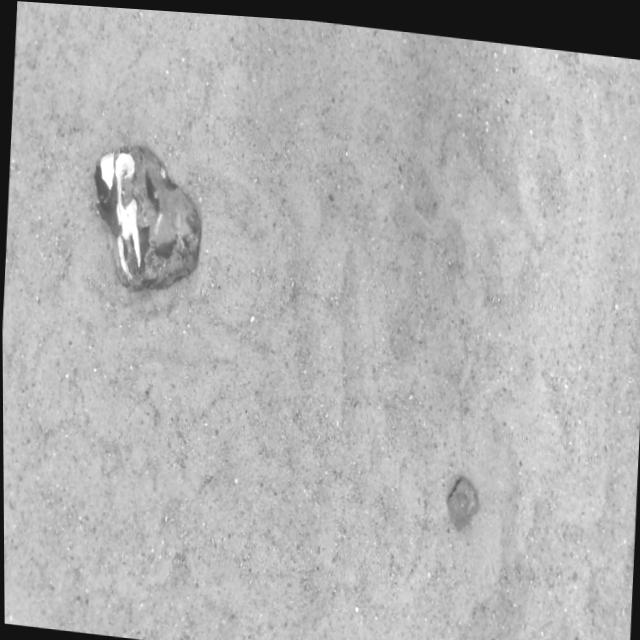rock: (94, 144, 200, 288), (446, 471, 477, 523)
